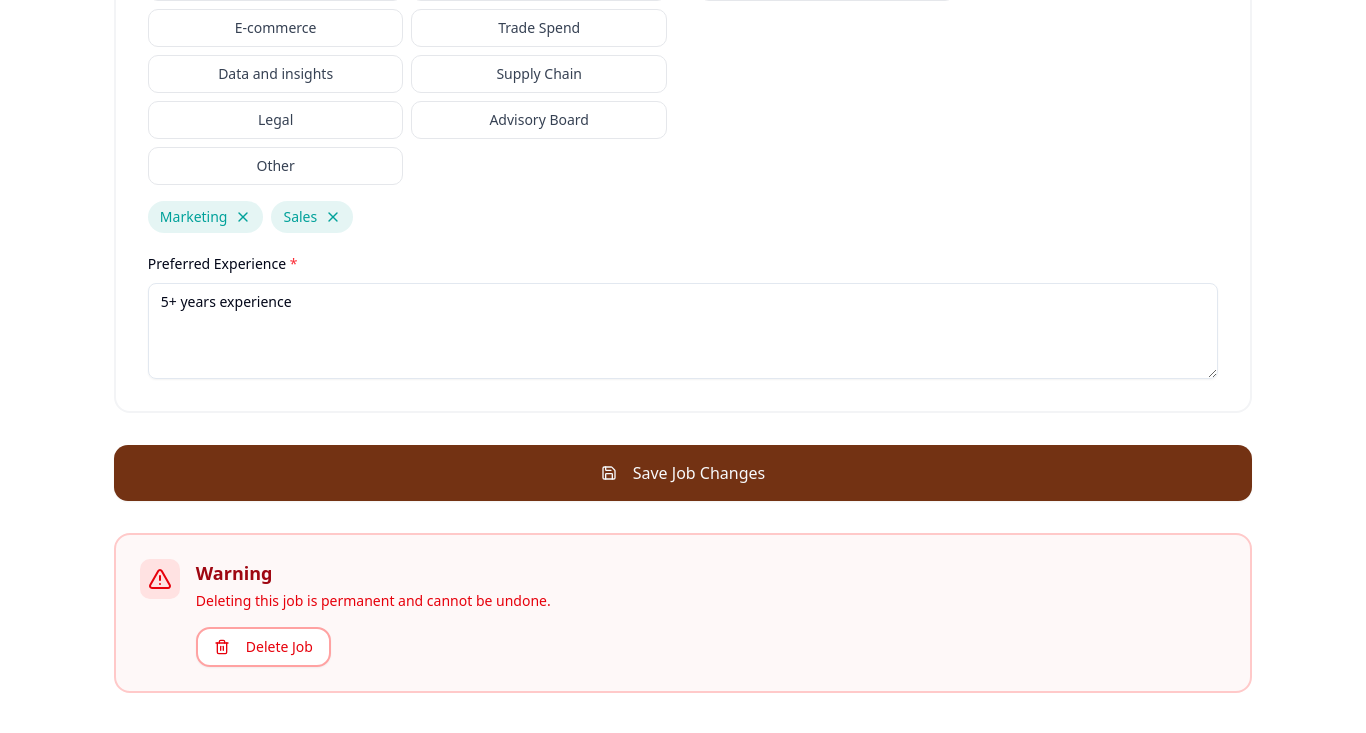
Test case: EditJobPage › Delete Job › hides confirmation on cancel
(page scrolled)
Click the button "Delete Job": (263,647) [196,627,331,667]
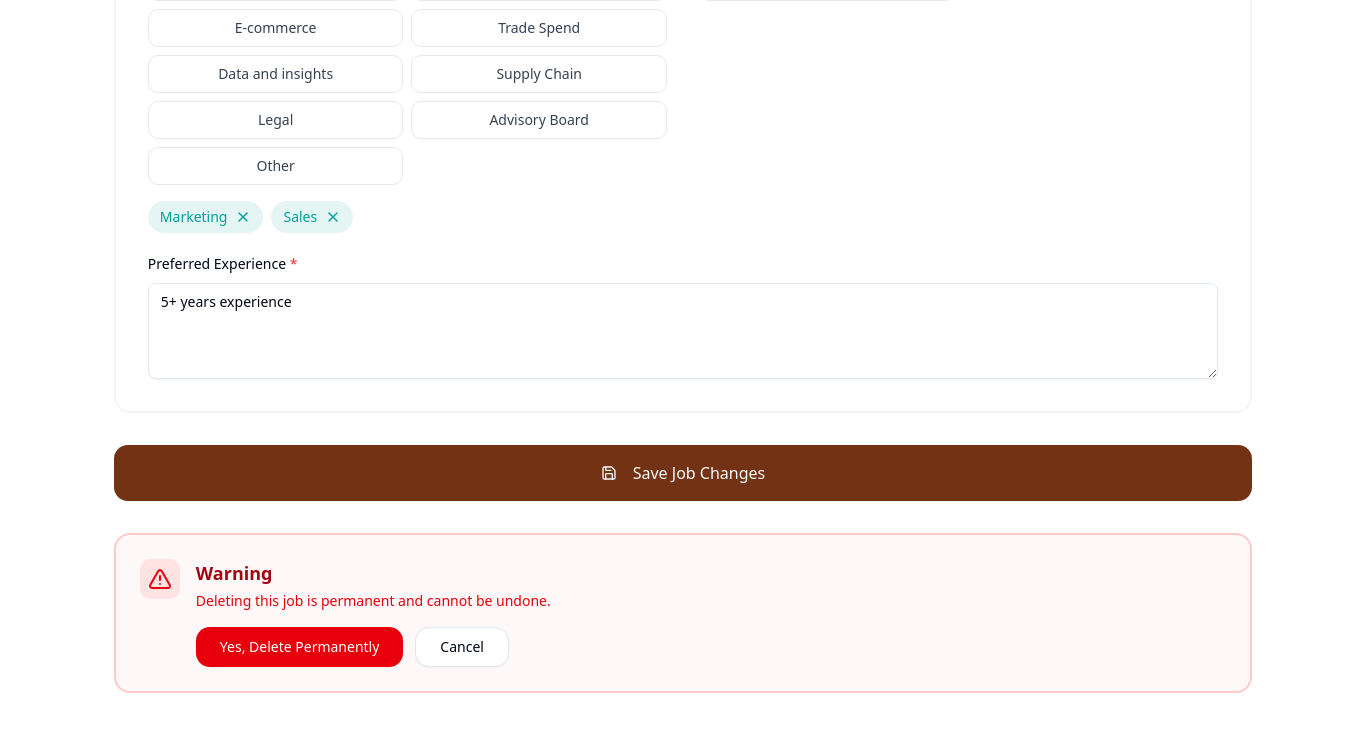
Click the button "Cancel": (462,647) [415,627,509,667]
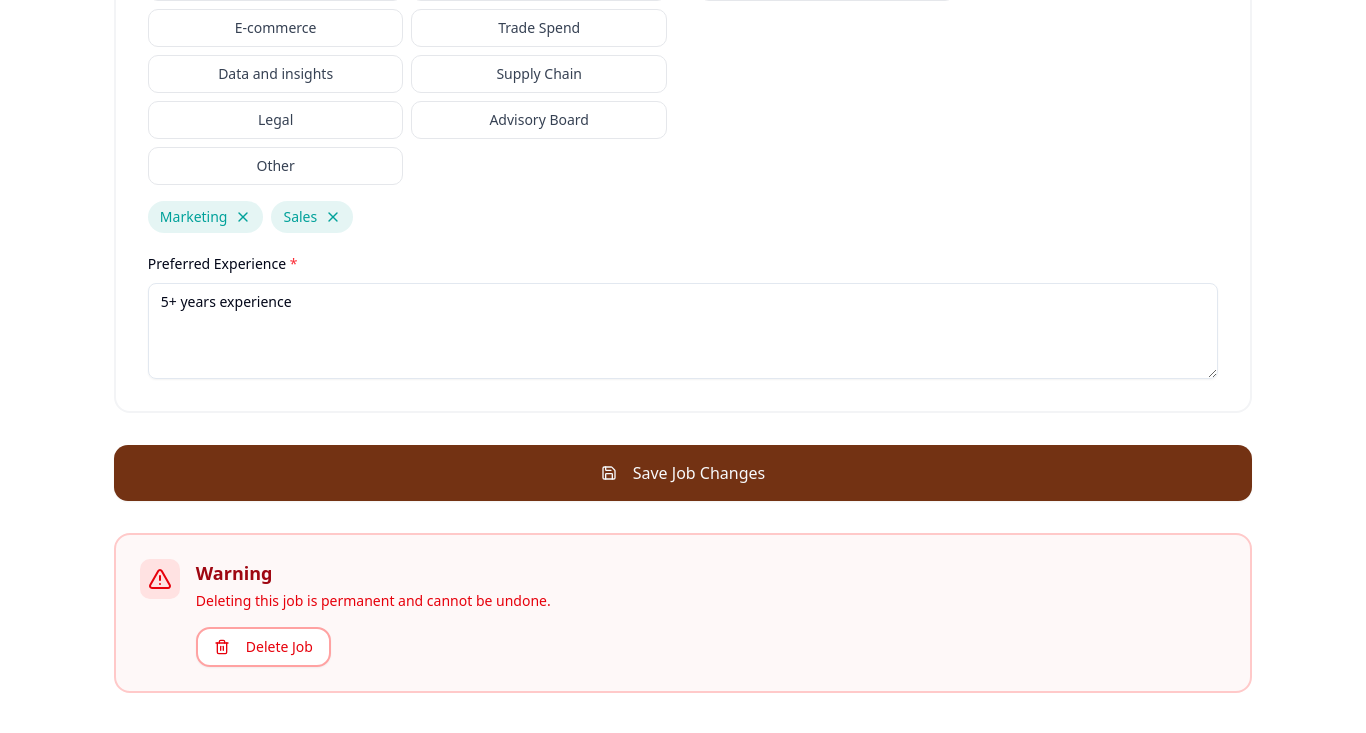
Result: the button "Yes, Delete Permanently" is gone
